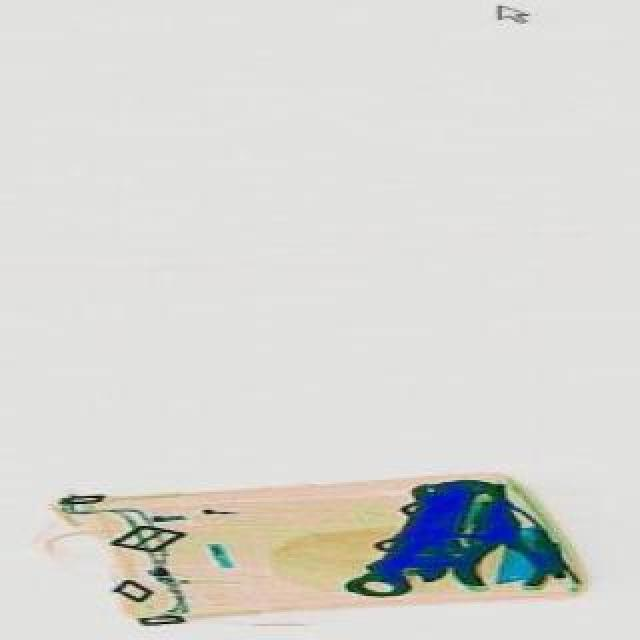scissors: (334, 454, 482, 614)
wrench: (442, 498, 540, 594)
